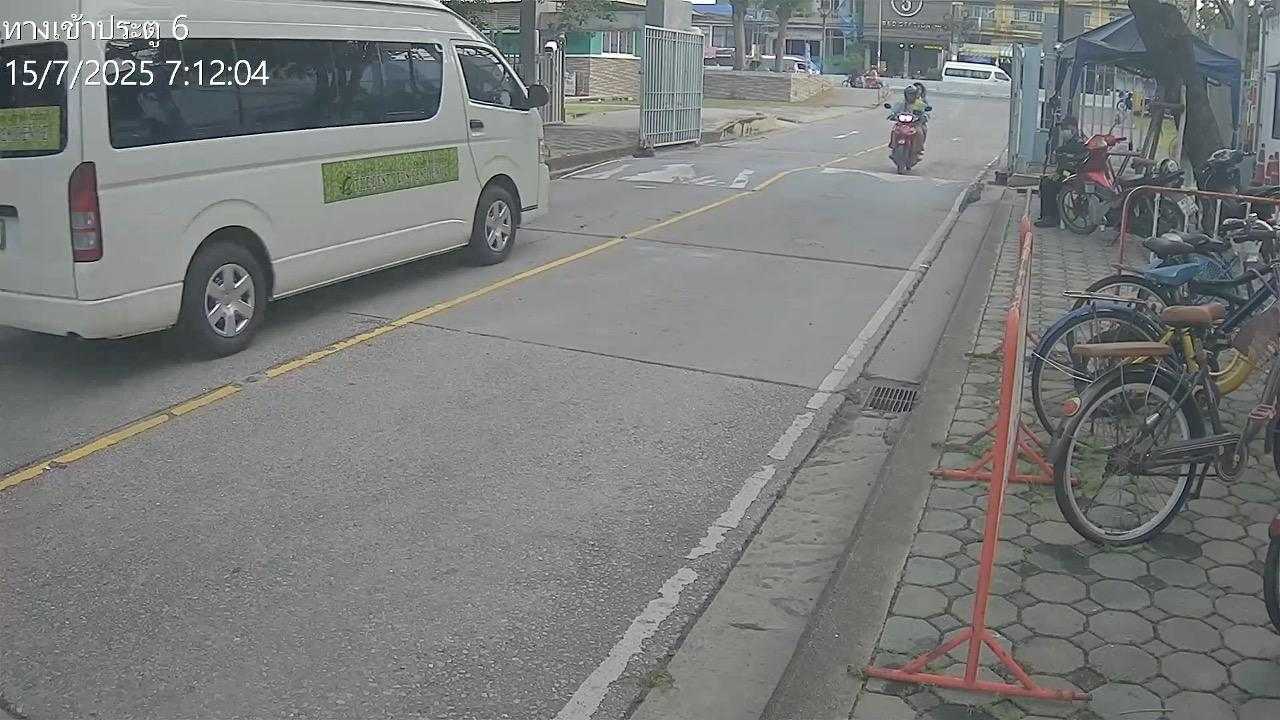With-Helmet: (903, 85, 919, 101)
